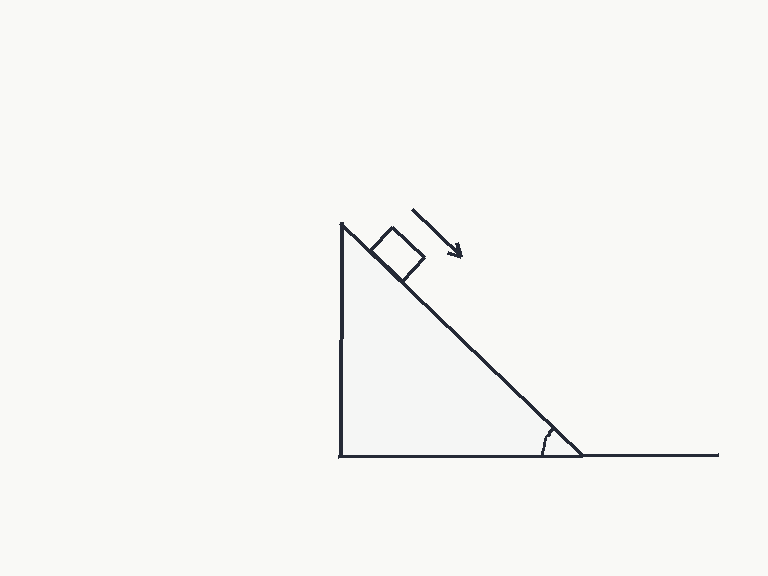block: (368, 225, 426, 283)
ramp: (338, 220, 584, 457)
